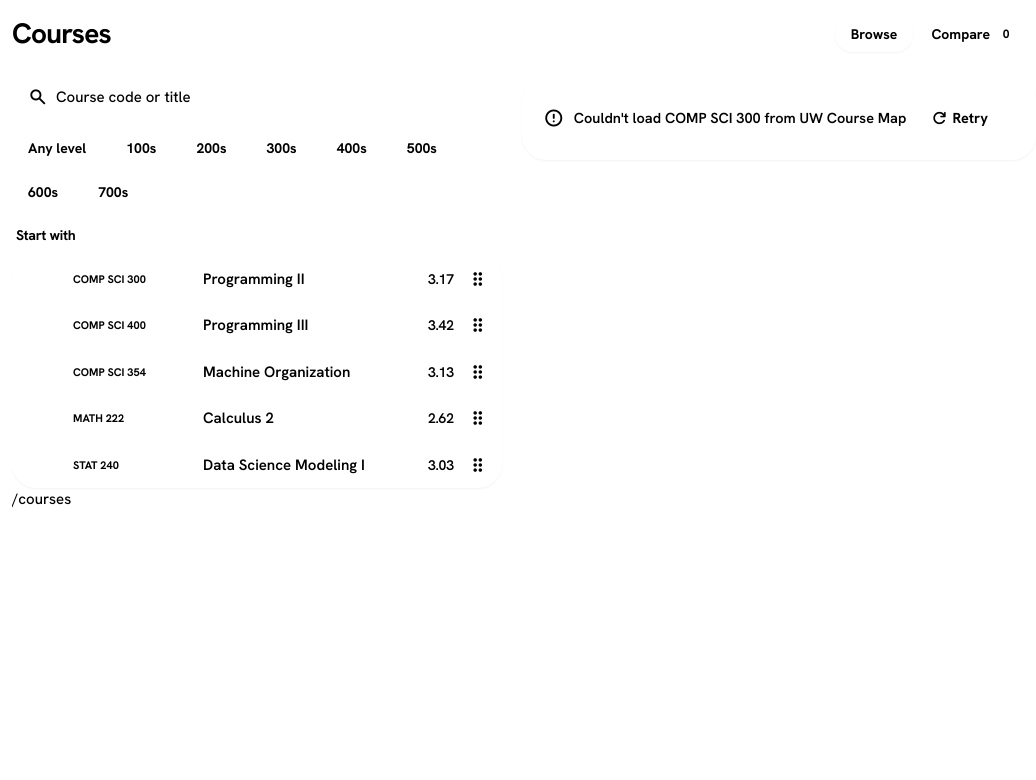
Test case: a preview that fails to load says where from and retries
The image size is (1036, 780).
Expected: the text "Couldn't load COMP SCI 300 from UW Course Map" is shown, [574,107,906,129]
Click the button "Retry" at (959, 118), box [916,96,1002,140]
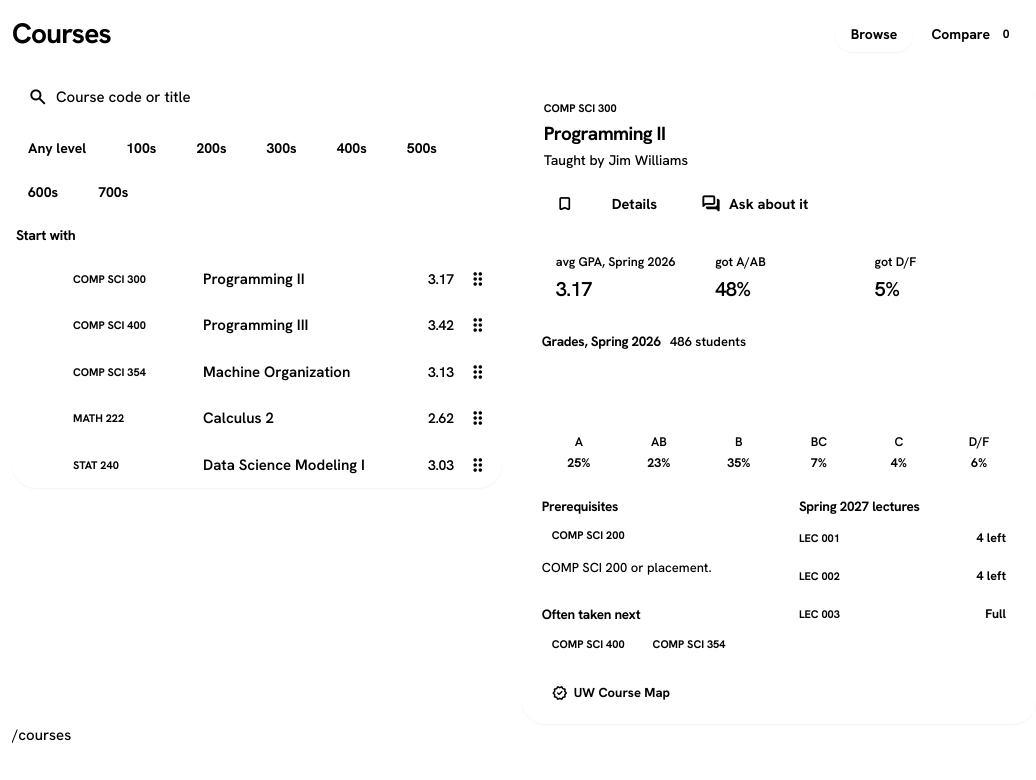
Expected: the heading "Programming II" is shown, [544,120,665,146]
